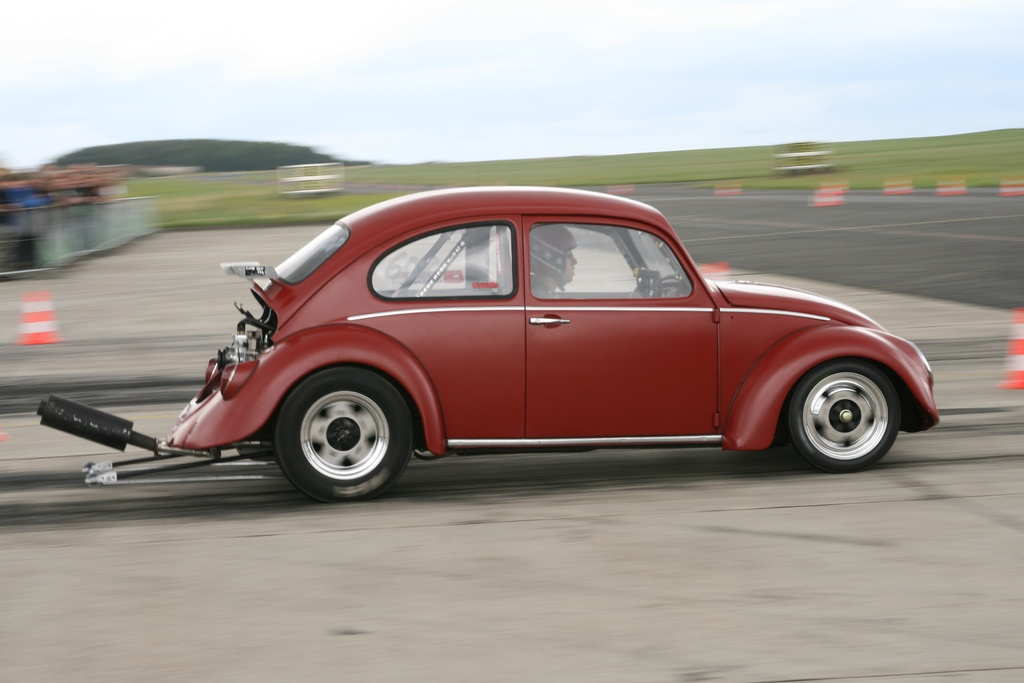Car: (37, 185, 940, 503)
